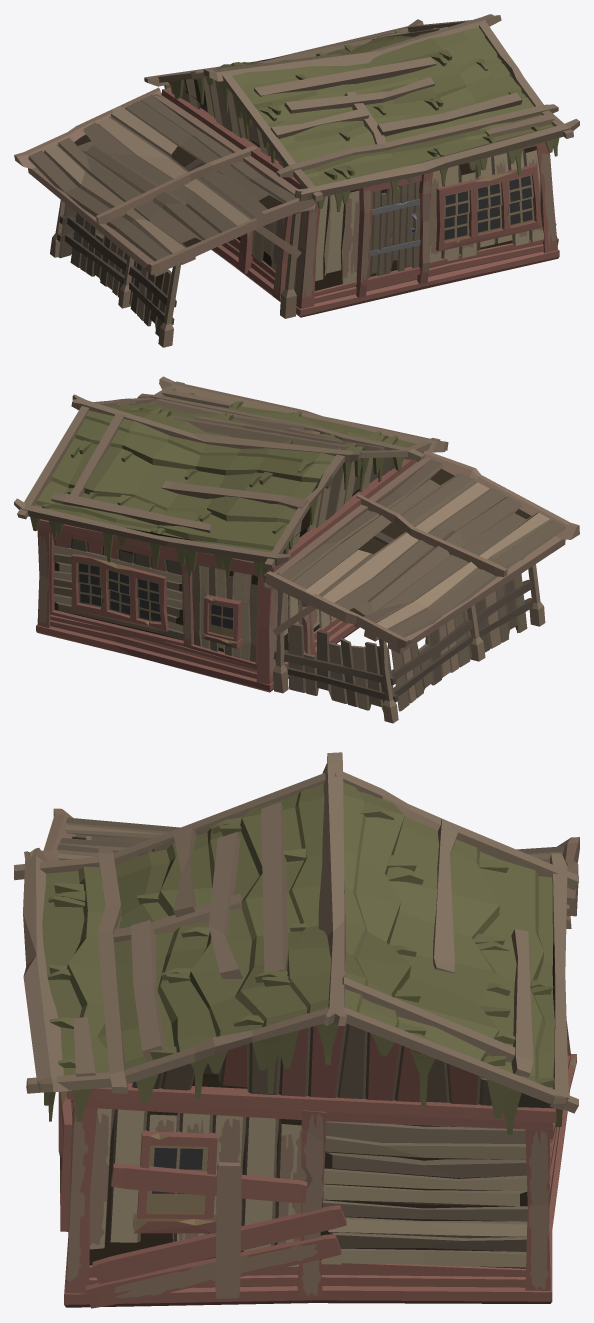
File: SM_Bld_Shanty_Preset_06.fbx
The picture shows the model from 3 angles, top to bottom: view 1: azimuth 30°, elevation 25°; view 2: azimuth 150°, elevation 25°; view 3: azimuth 270°, elevation 25°; orthographic projection. The views are drawn at different scales.
Parts seen in each view (by area): view 1: SM_Bld_Shanty_Preset_06; view 2: SM_Bld_Shanty_Preset_06; view 3: SM_Bld_Shanty_Preset_06.
Part boxes in pixels (left/top/right/bottom): SM_Bld_Shanty_Preset_06: left=14, top=14, right=579, bottom=347; SM_Bld_Shanty_Preset_06: left=14, top=376, right=579, bottom=723; SM_Bld_Shanty_Preset_06: left=14, top=752, right=579, bottom=1308.
Size of the model in its own units: 8.92 by 4.06 by 6.01.
